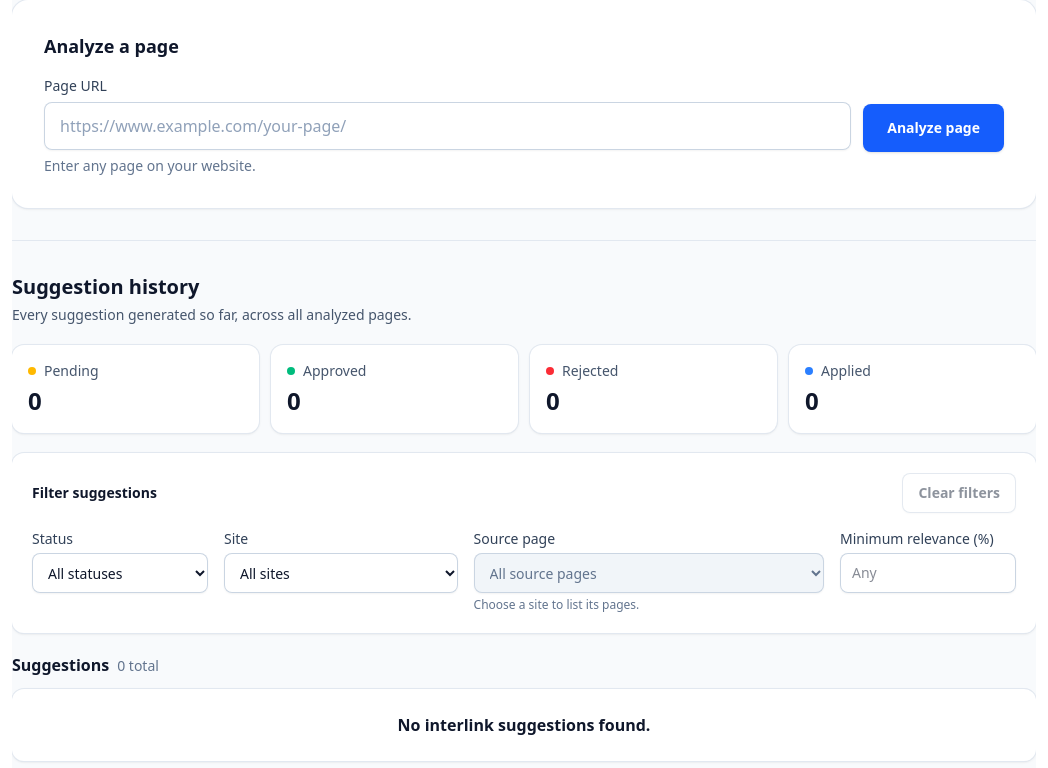
Scenario: new page discovery › does not offer a crawl for other errors
Type "https://example.test/new-service/" into the field labelled "Page URL".
click(448, 126); type("https://example.test/new-service/")  # box [44,102,851,150]
Then press Enter
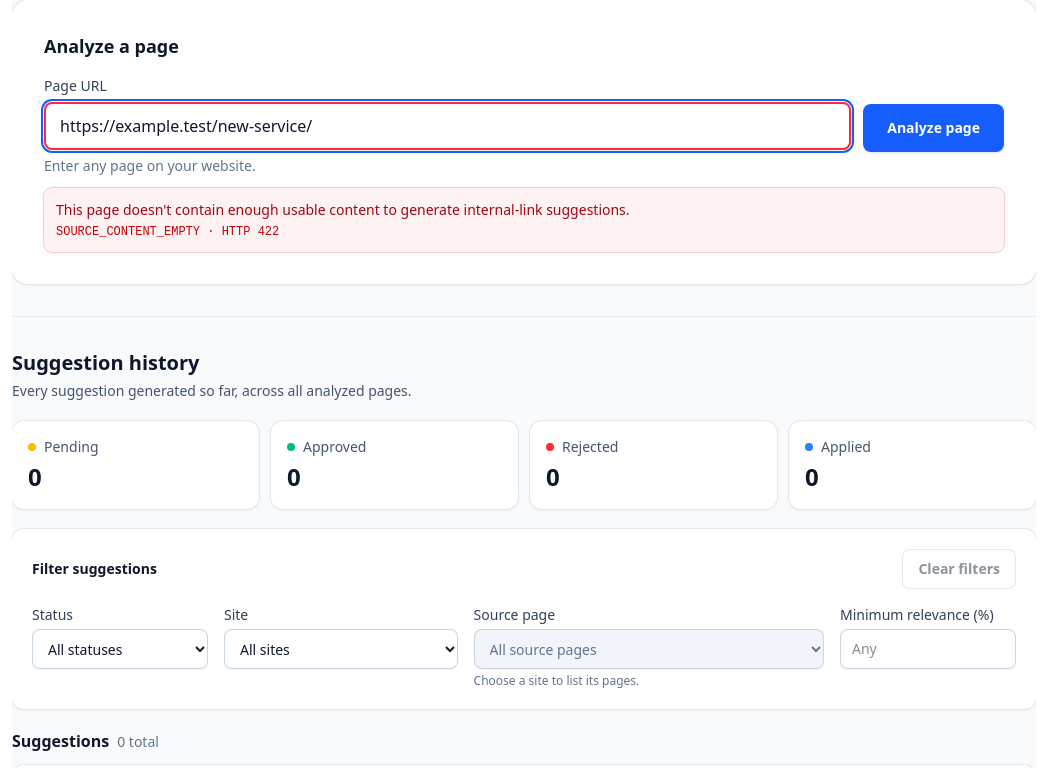
Check: the message shows "doesn't contain enough usable content", box [56,200,630,219]
